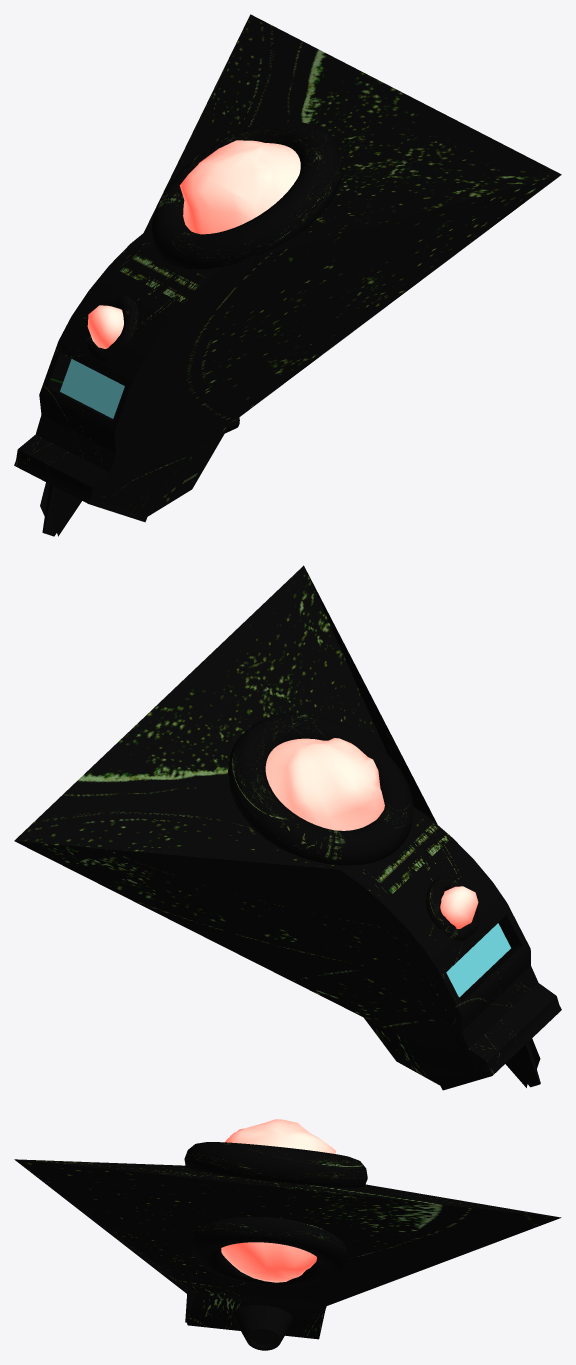
The model's file is SquareShip.fbx.
3 views of the same model, one above another, from view 1: azimuth 30°, elevation 25°; view 2: azimuth 150°, elevation 25°; view 3: azimuth 270°, elevation 25° (orthographic). The views are drawn at different scales.
Parts seen in each view (by area): view 1: Cube, Torus.003, Sphere, Torus, Icosphere; view 2: Cube, Torus.003, Sphere, Torus, Icosphere; view 3: Cube, Torus.001, Torus.003, Sphere, Cylinder.
Boxes of the visible parts, x1,y1,x2,y2 form: Cube: (14, 14, 561, 536); Torus.003: (151, 121, 342, 269); Sphere: (179, 140, 300, 234); Torus: (86, 294, 138, 361); Icosphere: (87, 305, 123, 348); Cube: (14, 565, 561, 1090); Torus.003: (228, 713, 413, 865); Sphere: (265, 738, 384, 830); Torus: (426, 876, 478, 940); Icosphere: (440, 886, 478, 928); Cube: (14, 1159, 561, 1339); Torus.001: (190, 1217, 347, 1286); Torus.003: (184, 1142, 367, 1187); Sphere: (221, 1119, 336, 1282); Cylinder: (232, 1305, 293, 1350).
Bounding box in the file's own units: 594 × 541 × 828.
